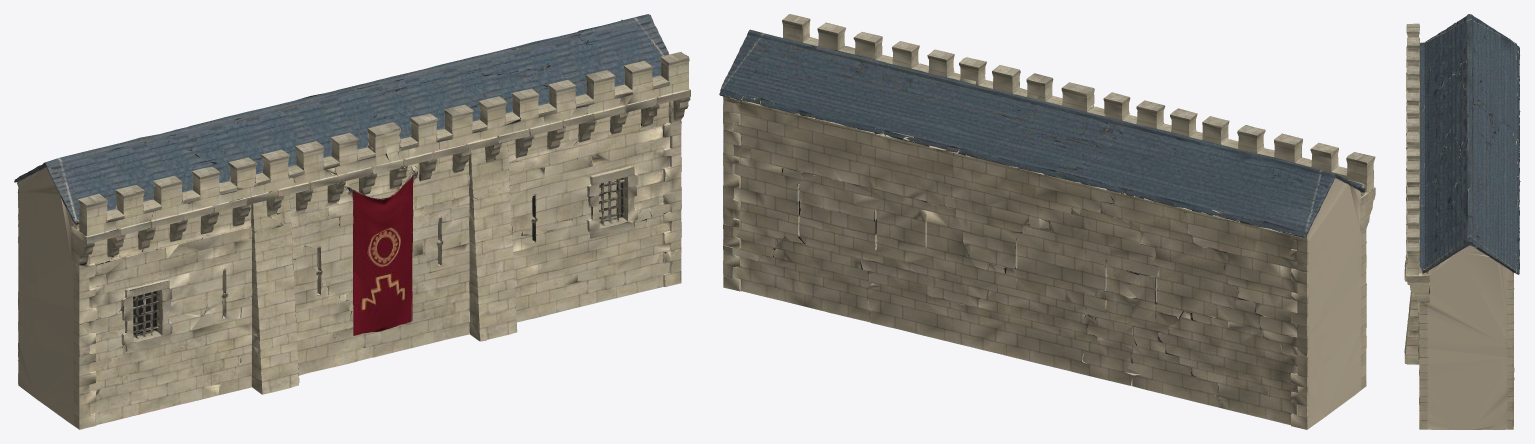
Rendered from rempart.glb.
3 renders of one model, left to right at view 1: azimuth 30°, elevation 25°; view 2: azimuth 150°, elevation 25°; view 3: azimuth 270°, elevation 25°, orthographic. The views are drawn at different scales.
Visible parts, largest first — view 1: rempart; view 2: rempart; view 3: rempart.
Boxes of the visible parts, bbox=[...] form: rempart: bbox=[14, 14, 690, 429]; rempart: bbox=[719, 14, 1375, 429]; rempart: bbox=[1404, 14, 1520, 429].
Bounding box in the file's own units: 20.72 × 8.01 × 4.45.
1 material, 1 textured.
